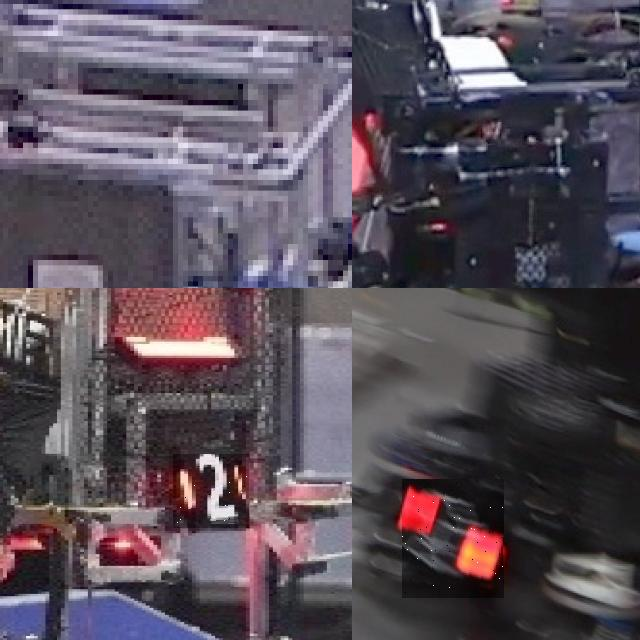R2: (173, 454, 249, 528)
Rs: (402, 480, 504, 600)
